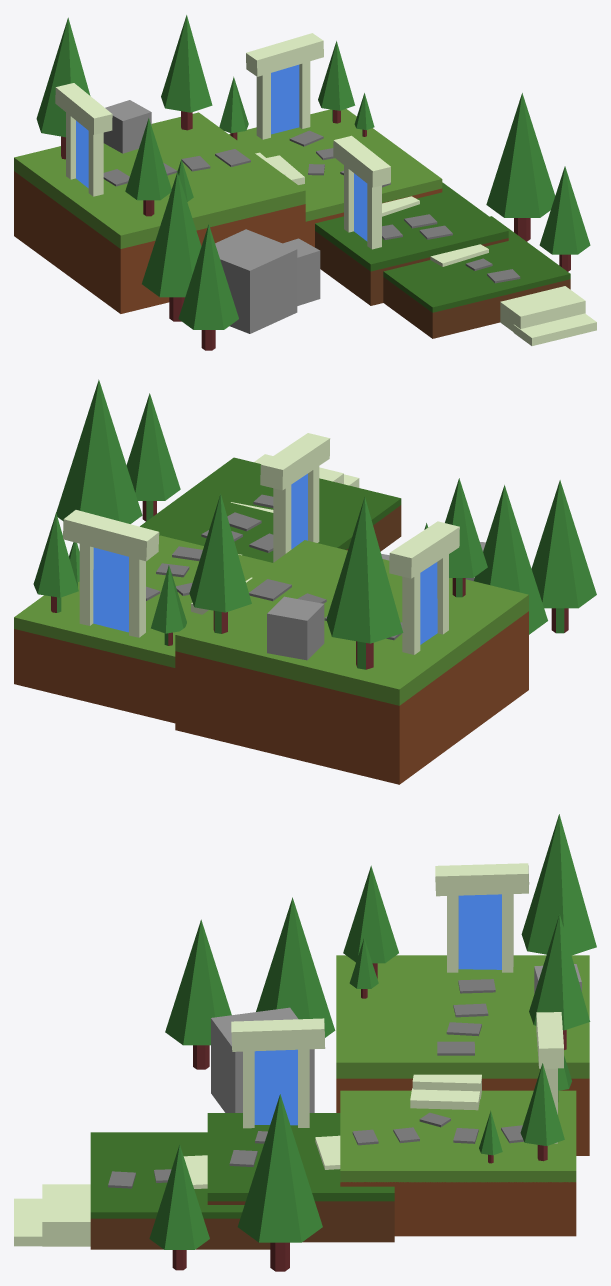
File: environment.glb
3 renders of one model, top to bottom at view 1: azimuth 30°, elevation 25°; view 2: azimuth 150°, elevation 25°; view 3: azimuth 270°, elevation 25°, orthographic. The views are drawn at different scales.
Parts seen in each view (by area): view 1: terrain, terrain.003, terrain.002, terrain.001, rocks, tree.007, tree.002, tree.009, tree.005, tree.003, tree.008, stairs.001 (+21 smaller); view 2: terrain, terrain.001, tree.003, tree.007, terrain.003, tree.009, terrain.002, tree.005, tree.002, tree.008, rocks.002, gates.002 (+15 smaller); view 3: terrain.001, terrain, terrain.003, terrain.002, tree.007, tree.003, tree.009, tree.002, tree.008, rocks, tree.005, portals.002 (+18 smaller).
Boxes of the visible parts, box(x1,y1,x2,y2) form: terrain: box(14, 112, 305, 313); terrain.003: box(383, 216, 570, 338); terrain.002: box(315, 182, 508, 305); terrain.001: box(229, 109, 442, 247); rocks: box(215, 229, 297, 333); tree.007: box(486, 93, 555, 241); tree.002: box(142, 172, 201, 321); tree.009: box(178, 224, 238, 350); tree.005: box(161, 15, 212, 130); tree.003: box(36, 17, 90, 159); tree.008: box(539, 166, 590, 271); stairs.001: box(500, 286, 585, 331); terrain: box(175, 540, 528, 784); terrain.001: box(14, 535, 272, 723); tree.003: box(326, 496, 403, 669); tree.007: box(56, 379, 142, 523); terrain.003: box(140, 457, 401, 551); tree.009: box(531, 480, 596, 633); terrain.002: box(142, 492, 353, 562); tree.005: box(189, 494, 251, 633); tree.002: box(474, 485, 547, 634); tree.008: box(126, 393, 180, 521); rocks.002: box(267, 596, 324, 660); gates.002: box(63, 510, 159, 561); terrain.001: box(340, 1090, 576, 1236); terrain: box(336, 955, 589, 1155); terrain.003: box(90, 1132, 270, 1249); terrain.002: box(207, 1113, 394, 1242); tree.007: box(237, 1094, 322, 1271); tree.003: box(521, 814, 596, 955); tree.009: box(165, 919, 231, 1069); tree.002: box(256, 897, 335, 1037); tree.008: box(149, 1144, 209, 1270); rocks: box(211, 1007, 314, 1112); tree.005: box(529, 914, 590, 1049); portals.002: box(458, 894, 501, 969).
Size of what is drawn, in the model's own units: 13.39 by 6.91 by 14.06.
